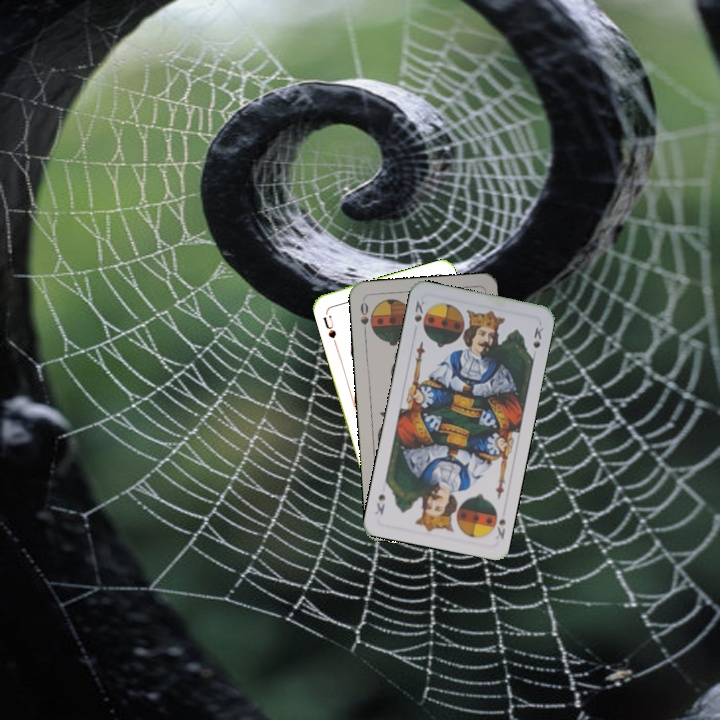SK: (487, 505, 508, 542), (410, 295, 428, 324)
SO: (356, 296, 371, 337)
SU: (319, 311, 339, 341)
